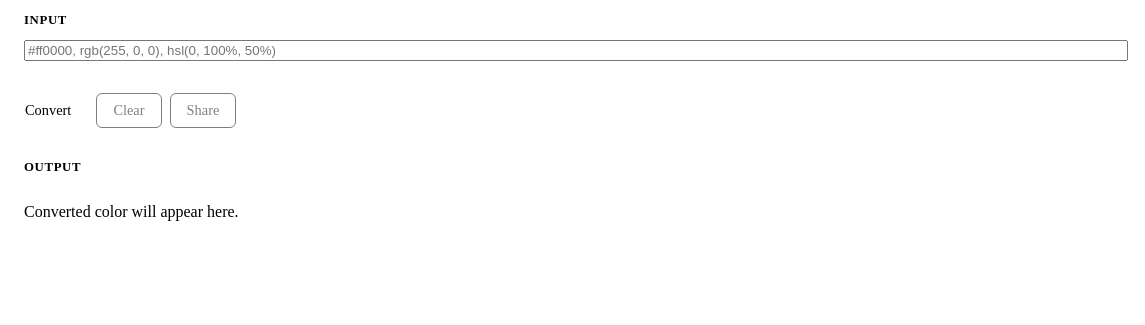
it: ColorConverterTool › shows an error for invalid input and no leftover output
In the field named "Color input": (576, 50) [24,40,1128,61], type "#ff0000"
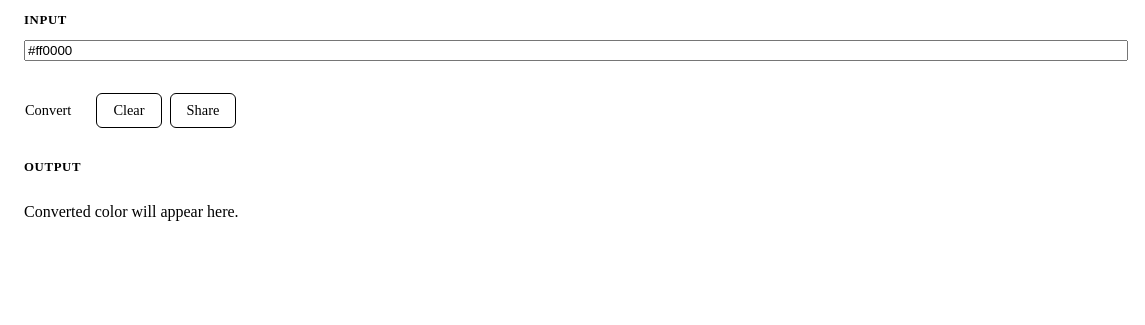
Click the button "Convert": (48, 110) [8,93,88,128]
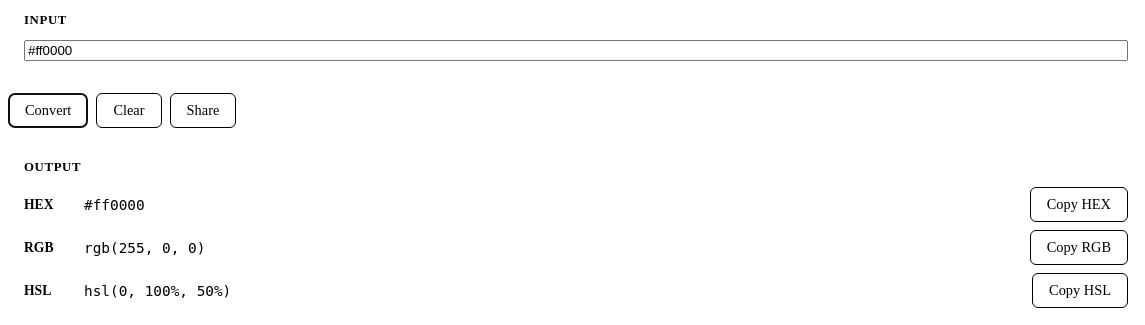
Expected: the element with test id "color-output" is shown, [24,187,1128,308]
Replace the text in the field named "Color input" with "not-a-color": (576, 50) [24,40,1128,61]
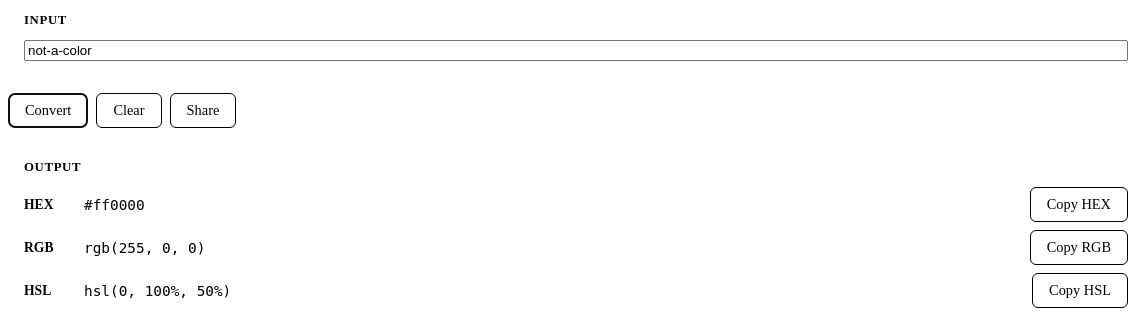
Click the button "Convert": (48, 110) [8,93,88,128]
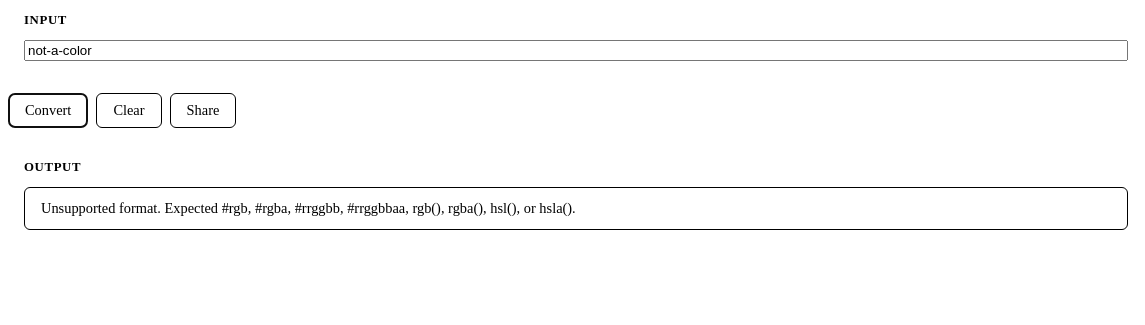
Expected: the message shows "Unsupported format", [41,200,576,216]
Expected: the element with test id "color-output" is gone
